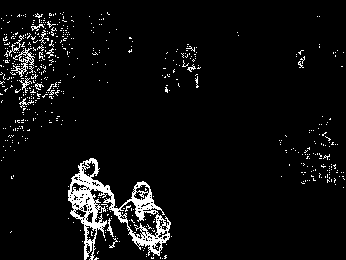person: (67, 158, 118, 259), (116, 181, 173, 260)
